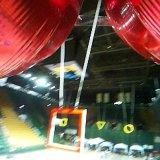Orange_Square_GShape: (48, 109, 83, 153)
Yellow_Circle_GShape: (124, 124, 134, 133)
Yellow_Triangle_Gshape: (96, 121, 106, 129)
